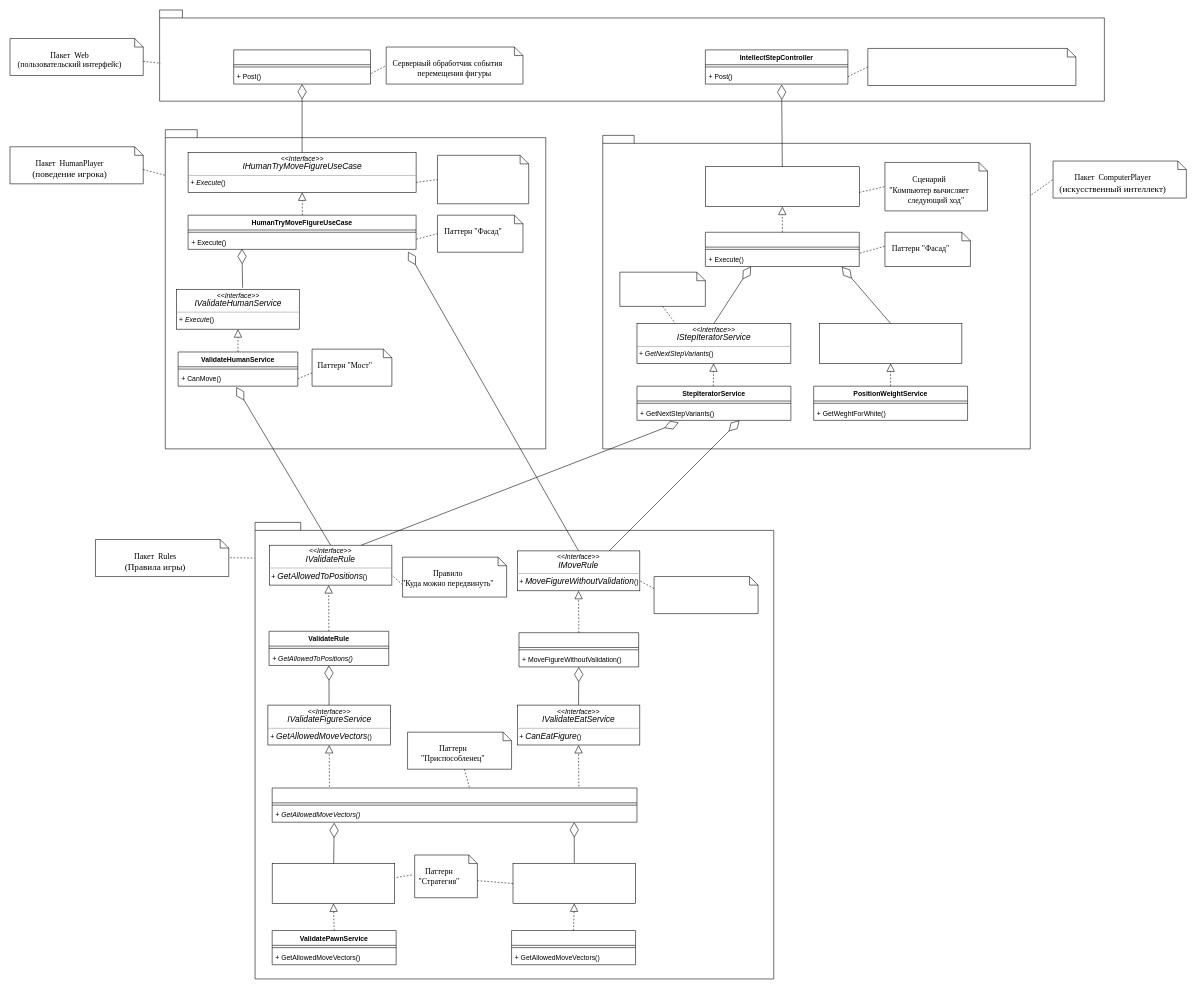
Some shapes in this 1196 by 989 pixel diagram are drawn without their labels. The box of each missing label's shape, as (x1, y1, x2, y2) in pixels:
<<Interface>> IComputerCalculateNextStepUseCase + Execute (): (705, 166, 859, 207)
<<Interface>> IPositionWeightService + GetWeghtForWhite (): (819, 323, 962, 363)
<<Interface>> IValidatePawnService + GetAllowedMoveVectors (): (272, 863, 395, 903)
<<Interface>> IValidateQueenService + GetAllowedMoveVectors (): (512, 863, 636, 903)
ComputerCalculatesNextStepUseCase: (705, 232, 859, 266)
MoveFigureController: (233, 49, 370, 84)
MoveRule: (518, 632, 639, 667)
ValidateFigureService: (272, 787, 637, 822)
ValidateQueenService: (511, 930, 636, 965)
Паттерн "Итератор": (619, 272, 705, 306)
Правило "Передвинуть фигуру": (654, 576, 758, 614)
Серверный обработчик, вычисляющий следующий шаг искусственного интеллекта: (867, 48, 1076, 85)
Сценарий "Человек попытался передвинуть фигуру": (437, 155, 529, 204)
